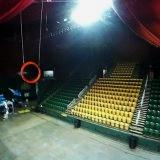Orange_Circle_GShape: (19, 60, 40, 83)
